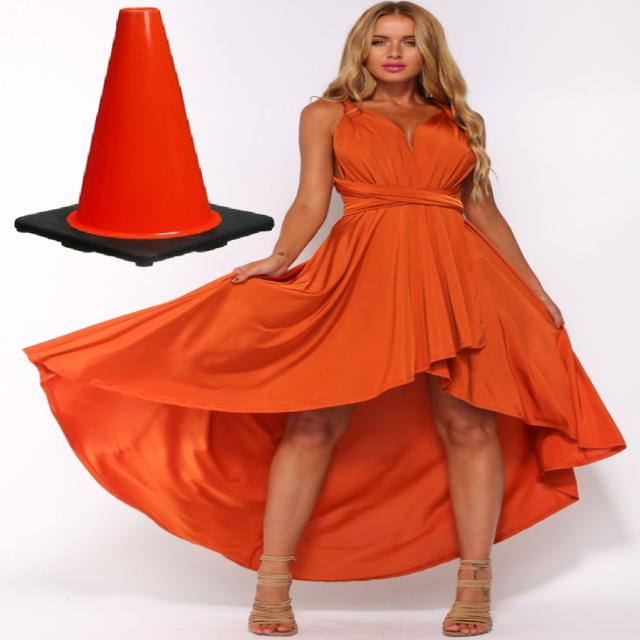traffic cone: (10, 3, 287, 272)
